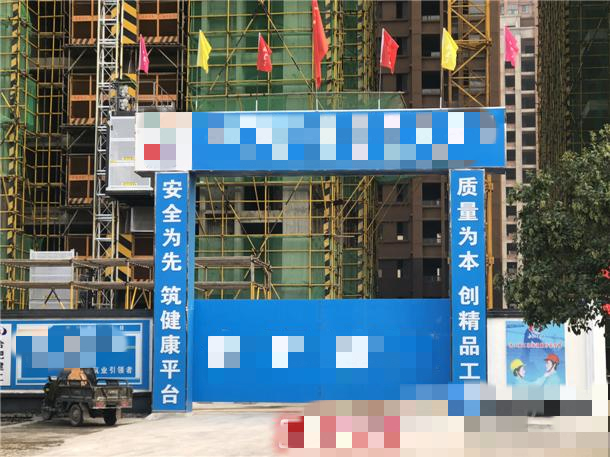slogan: (452, 171, 486, 418), (153, 172, 184, 410)
